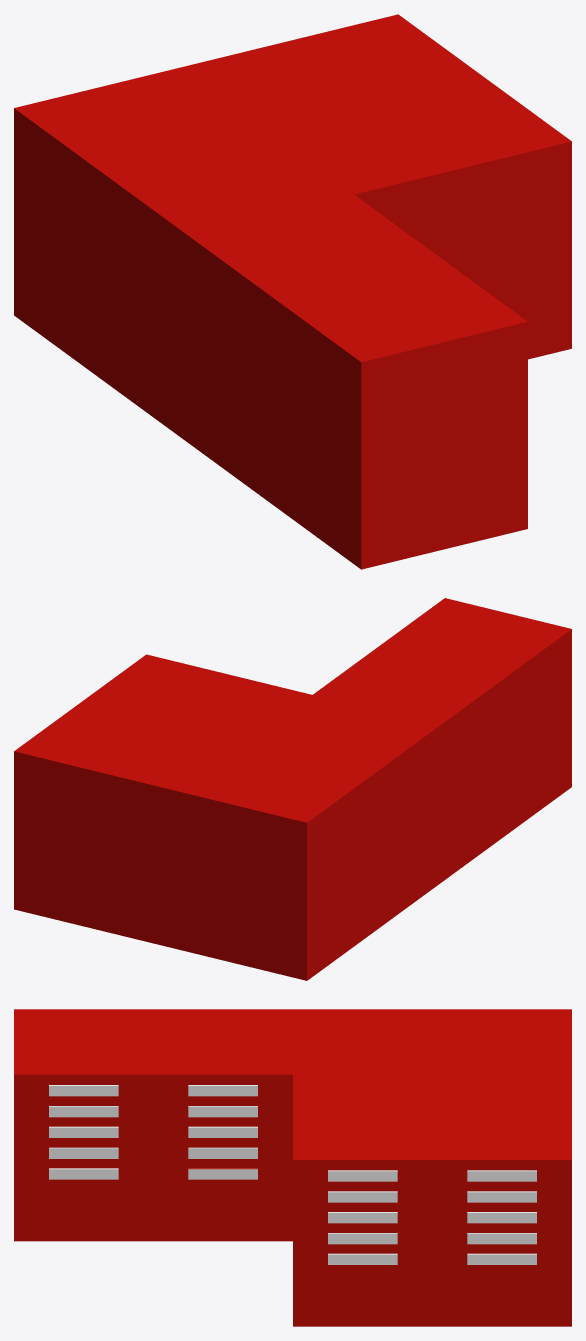
File: museu.fbx
The picture shows the model from 3 angles, top to bottom: view 1: azimuth 30°, elevation 25°; view 2: azimuth 150°, elevation 25°; view 3: azimuth 270°, elevation 25°; orthographic projection. The views are drawn at different scales.
Visible parts, largest first — view 1: Cube; view 2: Cube; view 3: Cube.
Boxes of the visible parts, x1,y1,x2,y2 form: Cube: (14,14,571,569); Cube: (14,598,571,980); Cube: (14,1009,571,1326).
Size of the model in its own units: 1056 by 541 by 1642.
